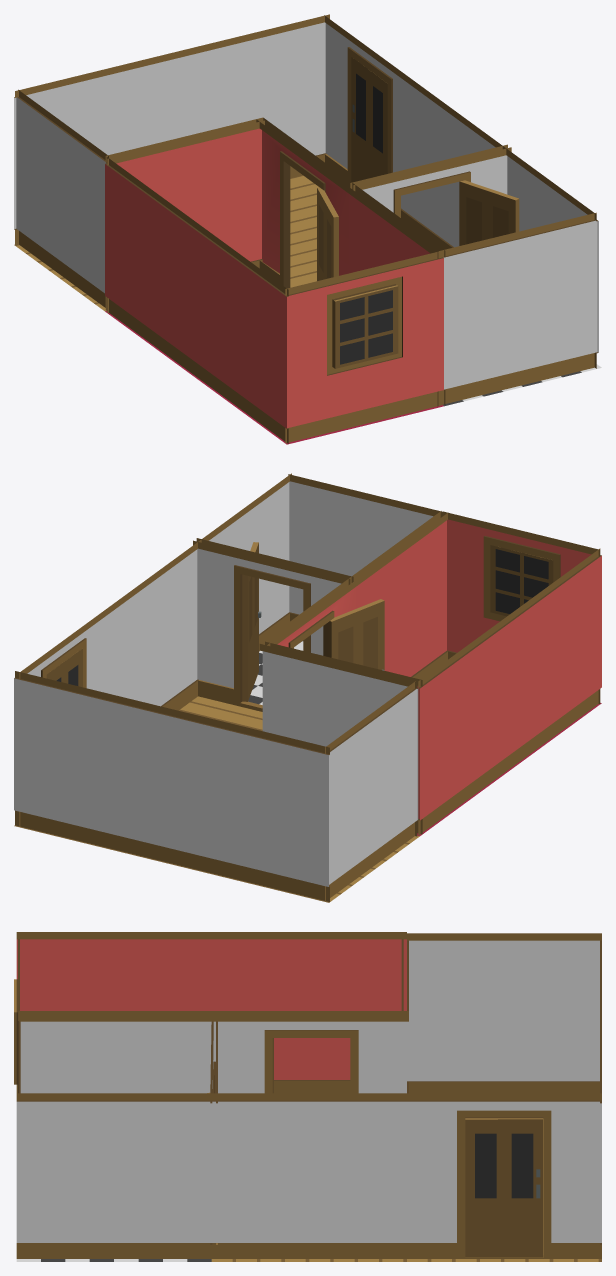
Rendered from house 3.fbx.
3 renders of one model, top to bottom at view 1: azimuth 30°, elevation 25°; view 2: azimuth 150°, elevation 25°; view 3: azimuth 270°, elevation 25°, orthographic. The views are drawn at different scales.
Parts seen in each view (by area): view 1: Wall_01_Grey.008, Wall_Window_01_Red.001, Wall_01_Grey.003, Wall_01_Red.004, Wall_01_Red.005, Wall_01_Grey.005, Wall_01_Red.002, Wall_01_Grey.004, Wall_Door_01_Grey.002, Wall_01_Grey.002, Wall_Door_01_Red.001, Window.004 (+12 smaller); view 2: Wall_01_Grey.003, Wall_01_Grey.004, Wall_01_Red.005, Wall_01_Red.004, Wall_01_Grey.005, Wall_01_Grey.002, Wall_Door_01_Grey.003, Wall_01_Grey.006, Wall_01_Grey.008, Wall_01_Red.003, Wall_Window_01_Red.001, Wall_01_Grey.009 (+12 smaller); view 3: Wall_01_Grey.009, Wall_01_Grey.002, Wall_01_Grey.005, Wall_Door_01_Grey.002, Wall_01_Red.005, Wall_01_Grey.007, Wall_01_Red.004, Wall_Door_01_Grey.004, Door.003, Wall_Door_01_Red.001, Wall_01_Red.003, Floor_Wood.011 (+2 smaller).
Part boxes in pixels (bbox=[...]): Wall_01_Grey.008: bbox=[439, 212, 597, 404]; Wall_Window_01_Red.001: bbox=[285, 250, 443, 443]; Wall_01_Grey.003: bbox=[171, 14, 329, 178]; Wall_01_Red.004: bbox=[196, 223, 288, 443]; Wall_01_Red.005: bbox=[105, 157, 197, 377]; Wall_01_Grey.005: bbox=[16, 89, 108, 307]; Wall_01_Red.002: bbox=[107, 120, 264, 313]; Wall_01_Grey.004: bbox=[14, 52, 172, 245]; Wall_Door_01_Grey.002: bbox=[324, 15, 416, 227]; Wall_01_Grey.002: bbox=[415, 82, 507, 249]; Wall_Door_01_Red.001: bbox=[256, 119, 348, 288]; Window.004: bbox=[332, 285, 398, 368]; Wall_01_Grey.003: bbox=[14, 671, 172, 863]; Wall_01_Grey.004: bbox=[171, 709, 329, 901]; Wall_01_Red.005: bbox=[418, 615, 510, 835]; Wall_01_Red.004: bbox=[509, 548, 601, 768]; Wall_01_Grey.005: bbox=[325, 681, 417, 901]; Wall_01_Grey.002: bbox=[108, 540, 200, 710]; Wall_Door_01_Grey.003: bbox=[193, 540, 350, 711]; Wall_01_Grey.006: bbox=[259, 644, 418, 836]; Wall_01_Grey.008: bbox=[288, 474, 445, 621]; Wall_01_Red.003: bbox=[356, 513, 447, 679]; Wall_Window_01_Red.001: bbox=[443, 511, 600, 703]; Wall_01_Grey.009: bbox=[201, 473, 291, 651]; Wall_01_Grey.009: bbox=[16, 1093, 211, 1258]; Wall_01_Grey.002: bbox=[211, 1093, 406, 1258]; Wall_01_Grey.005: bbox=[407, 933, 601, 1093]; Wall_Door_01_Grey.002: bbox=[407, 1093, 601, 1258]; Wall_01_Red.005: bbox=[211, 932, 406, 1093]; Wall_01_Grey.007: bbox=[18, 1014, 213, 1093]; Wall_01_Red.004: bbox=[16, 932, 211, 1093]; Wall_Door_01_Grey.004: bbox=[213, 1014, 408, 1093]; Door.003: bbox=[465, 1118, 542, 1257]; Wall_Door_01_Red.001: bbox=[213, 1011, 408, 1092]; Wall_01_Red.003: bbox=[18, 1011, 213, 1014]; Floor_Wood.011: bbox=[407, 1179, 601, 1261].
Size of the model in its own units: 1011 by 474 by 1523.
1 material, 1 textured.
